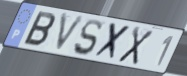1: (156, 36, 175, 68)
B: (21, 9, 57, 48)
S: (72, 19, 102, 57)
V: (52, 12, 87, 55)
X: (91, 22, 133, 63), (116, 25, 155, 67)
